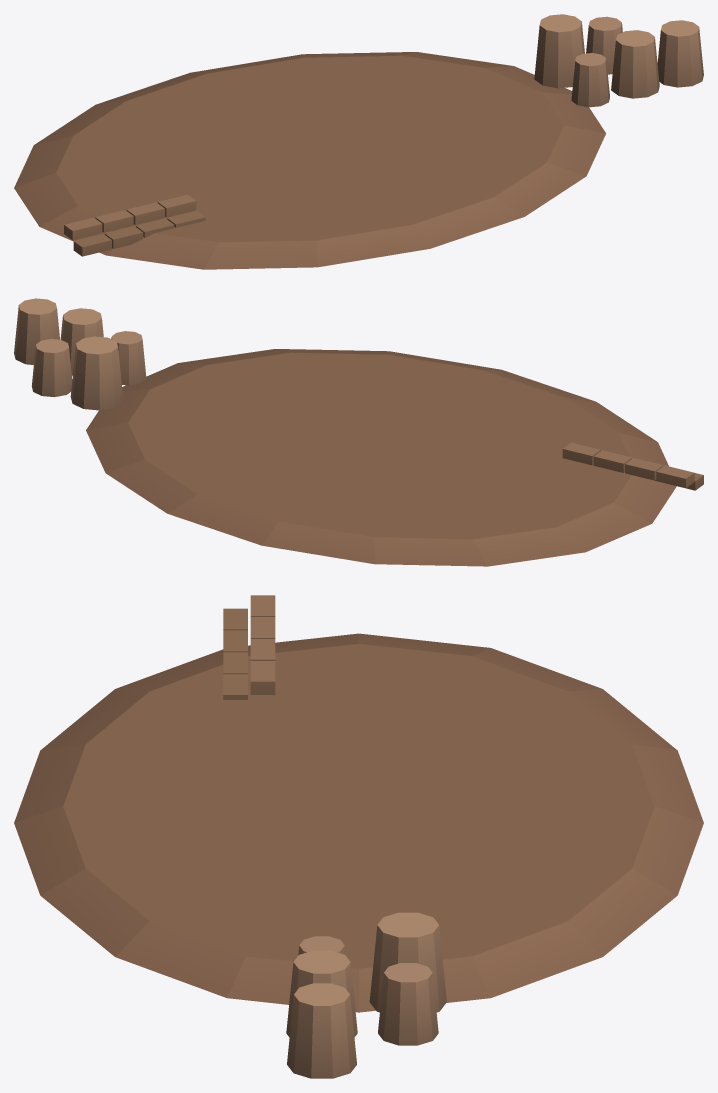
Rendered from clay_pit.glb.
The picture shows the model from 3 angles, top to bottom: view 1: azimuth 30°, elevation 25°; view 2: azimuth 150°, elevation 25°; view 3: azimuth 270°, elevation 25°; orthographic projection. The views are drawn at different scales.
Visible parts, largest first — view 1: clay_pit; view 2: clay_pit; view 3: clay_pit.
Boxes of the visible parts, bbox=[...] form: clay_pit: bbox=[14, 14, 703, 269]; clay_pit: bbox=[14, 298, 703, 566]; clay_pit: bbox=[14, 595, 703, 1078].
Size of the model in its own units: 8.77 by 0.7659 by 5.6.
